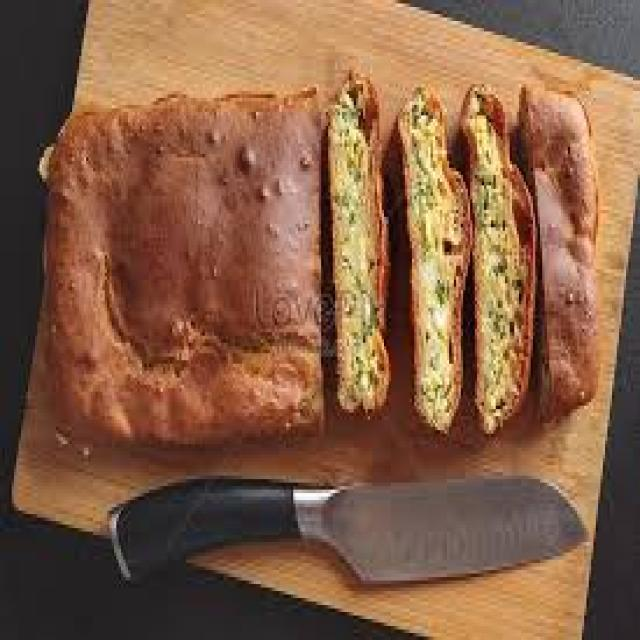Knife: (107, 476, 586, 584)
